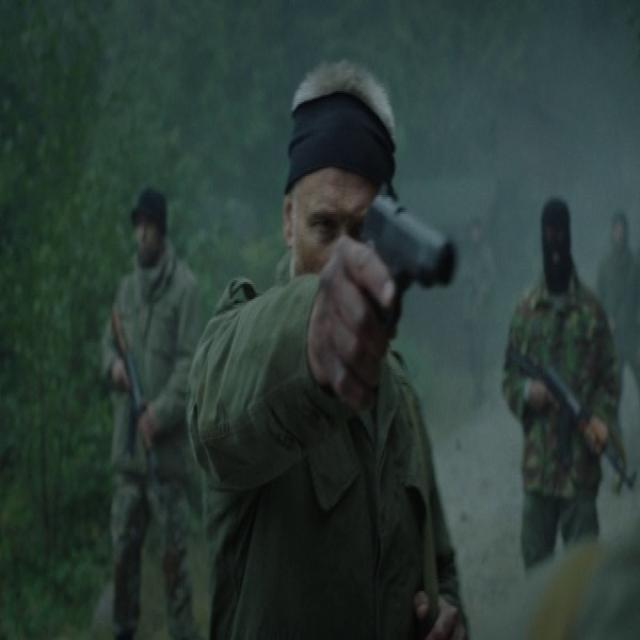weapons: (335, 177, 467, 397)
